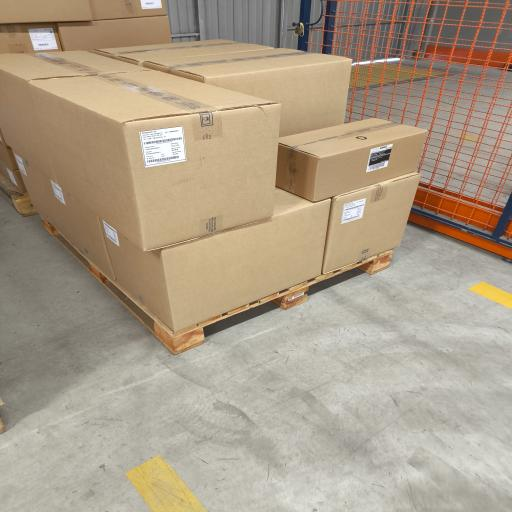pallet: (43, 219, 393, 354), (0, 175, 37, 216), (0, 418, 5, 434), (0, 418, 5, 433)
